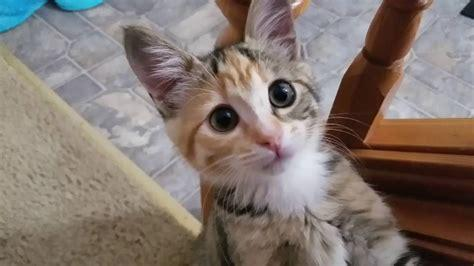cat: (124, 1, 417, 266)
